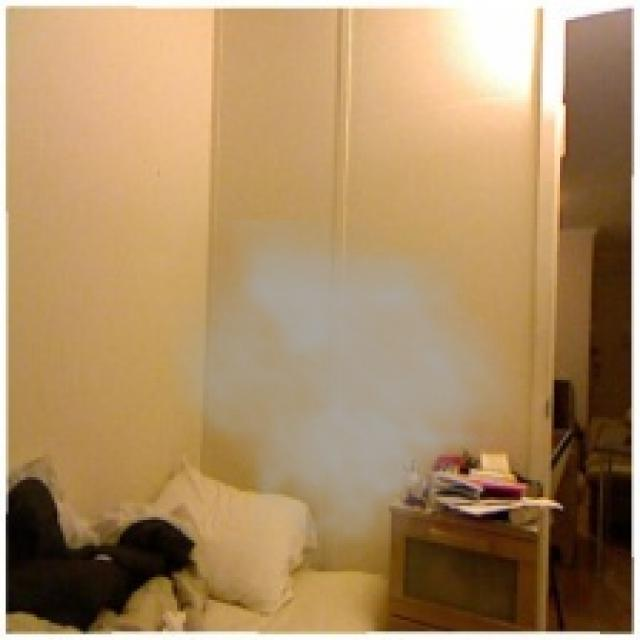Smoke: (154, 220, 532, 583)
